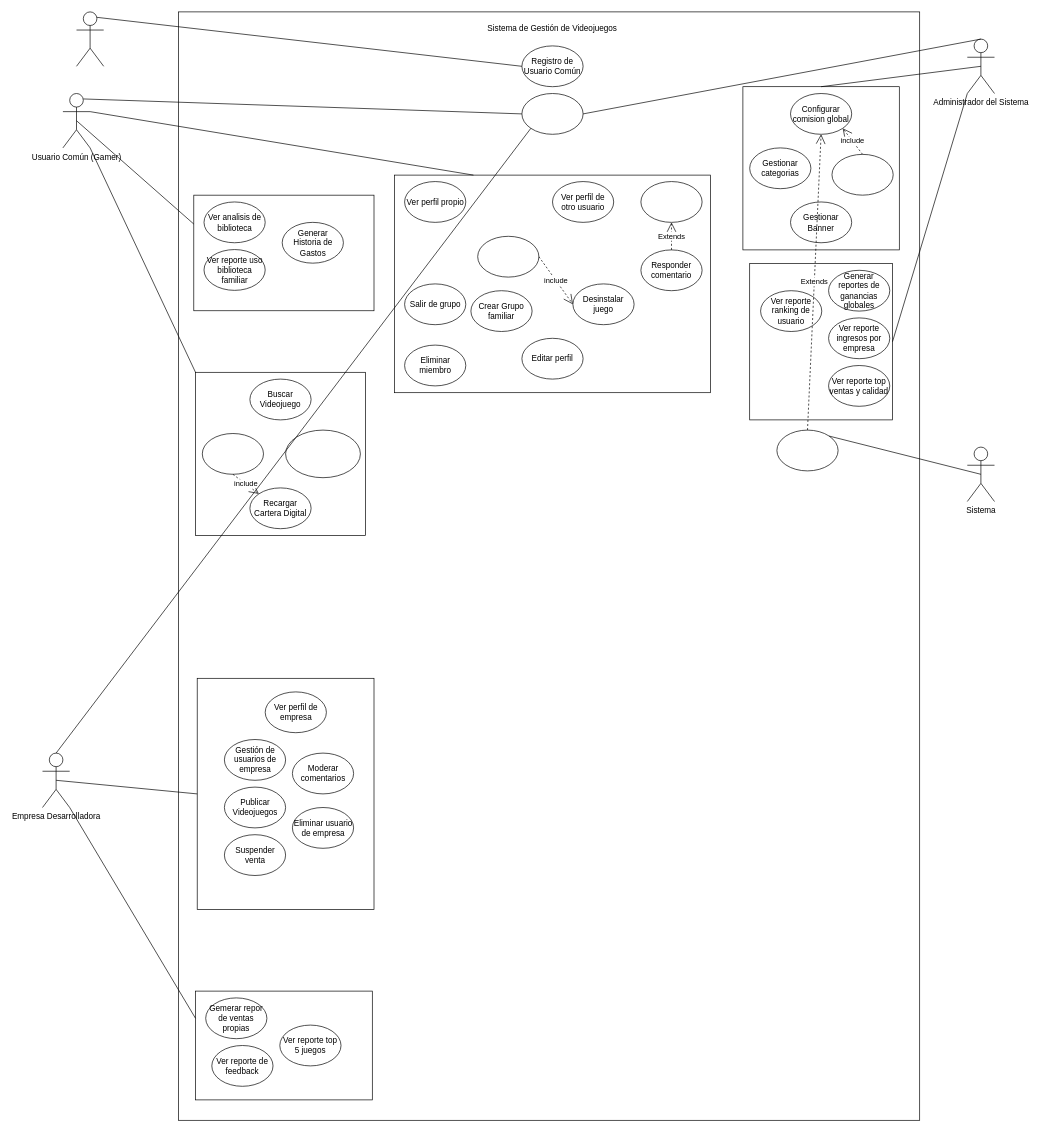
Image size: 1040x1132. Some labels were removed from this diagram. The shapes that lost their labels are listed below. From the top down, each one's centre as x and y in pixels, then its label:
At (90,38): "Usuario Visitante".
At (552,113): "Iniciar Sesion".
At (862,174): "Modificar comision especifica".
At (671,201): "Calificar y comentar".
At (508,256): "Instalar juego prestado".
At (233,453): "Realizar compra de Videojuego".
At (322,453): "Ver Recomendaciones".
At (807,450): "Ejecutar ajuste automatico".
